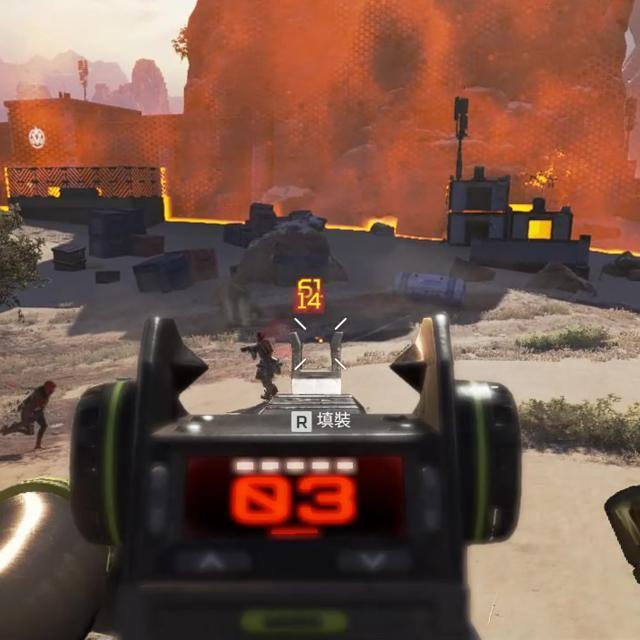avatar: (0, 377, 58, 453), (247, 330, 284, 402)
